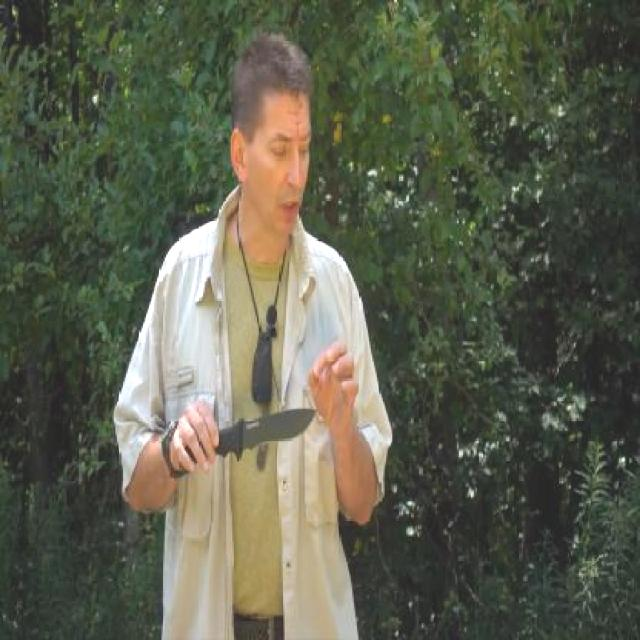knife: (180, 404, 317, 476)
